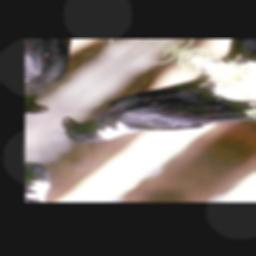Crow: (44, 46, 256, 191)
